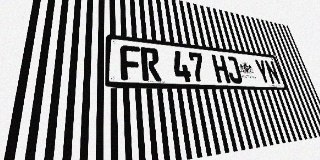4: (171, 50, 192, 82)
7: (187, 52, 207, 83)
F: (120, 45, 142, 81)
H: (211, 54, 231, 83)
J: (224, 56, 243, 84)
N: (264, 60, 281, 85)
R: (140, 47, 162, 81)
Y: (253, 59, 272, 84)
